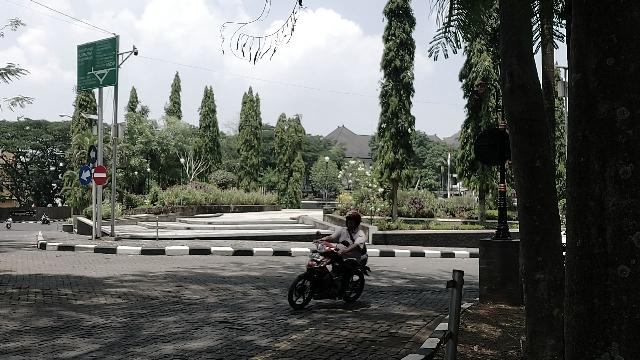helm: (346, 211, 363, 232)
motor: (289, 230, 374, 312)
